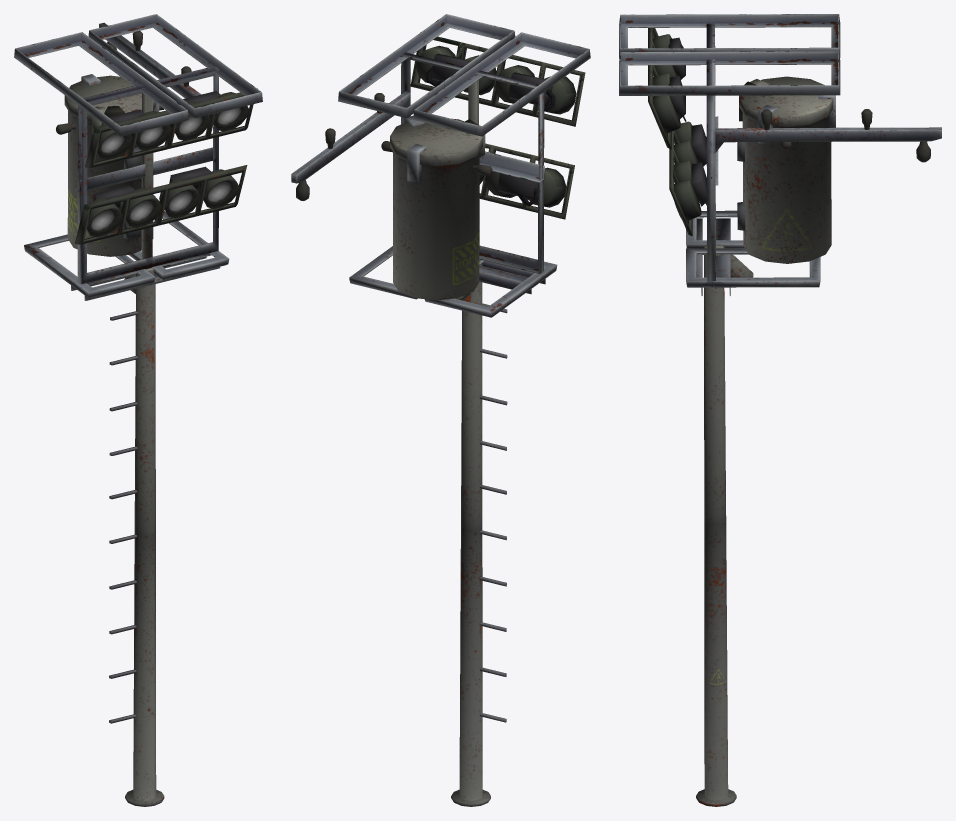
File: reflector.obj
3 renders of one model, left to right at view 1: azimuth 30°, elevation 25°; view 2: azimuth 150°, elevation 25°; view 3: azimuth 270°, elevation 25°, orthographic. The views are drawn at different scales.
Parts seen in each view (by area): view 1: bars_LP_Material.001_0; view 2: bars_LP_Material.001_0; view 3: bars_LP_Material.001_0.
Part boxes in pixels (left/top/right/bottom): bars_LP_Material.001_0: left=14, top=14, right=262, bottom=806; bars_LP_Material.001_0: left=291, top=14, right=590, bottom=806; bars_LP_Material.001_0: left=619, top=14, right=941, bottom=806.
Bounding box in the file's own units: 1.88 × 8 × 3.12.
Materials: 1 (1 with a texture image).
